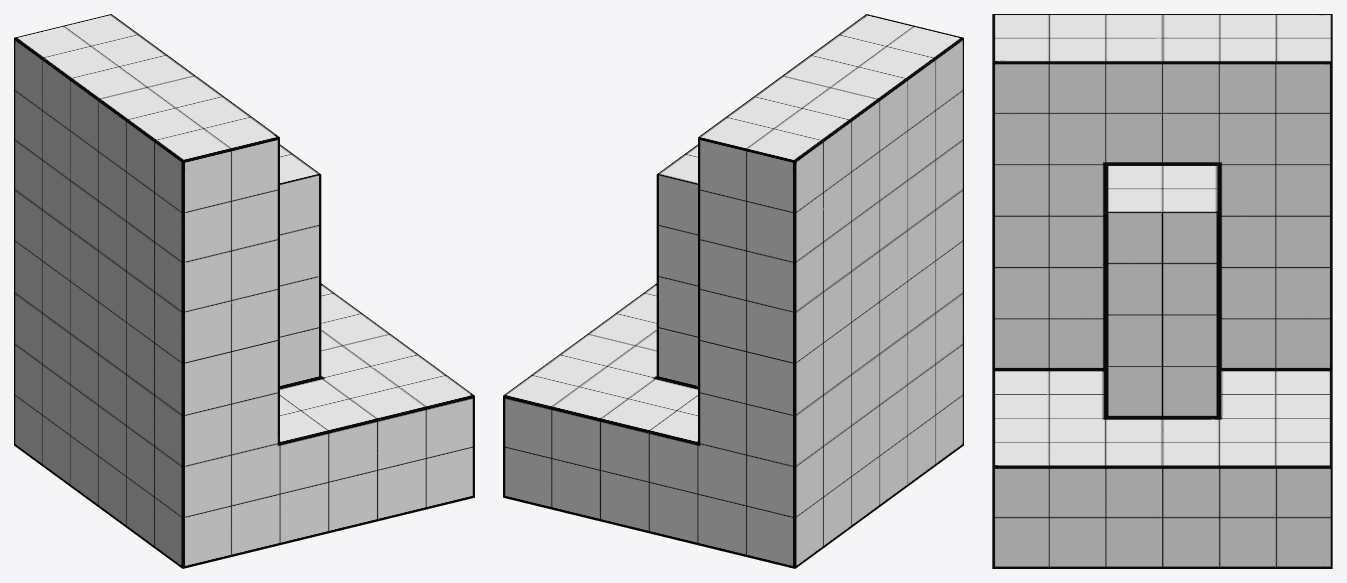
Rendered from fig5.glb.
3 views of the same model, side by side, from view 1: azimuth 30°, elevation 25°; view 2: azimuth 150°, elevation 25°; view 3: azimuth 270°, elevation 25° (orthographic).
Parts seen in each view (by area): view 1: root; view 2: root; view 3: root.
Boxes of the visible parts, x1,y1,x2,y2 form: root: (14,14,474,568); root: (503,14,963,568); root: (992,14,1332,568).
Bounding box in the file's own units: 0.06 × 0.08 × 0.06.
Materials: 10 (10 with a texture image).
